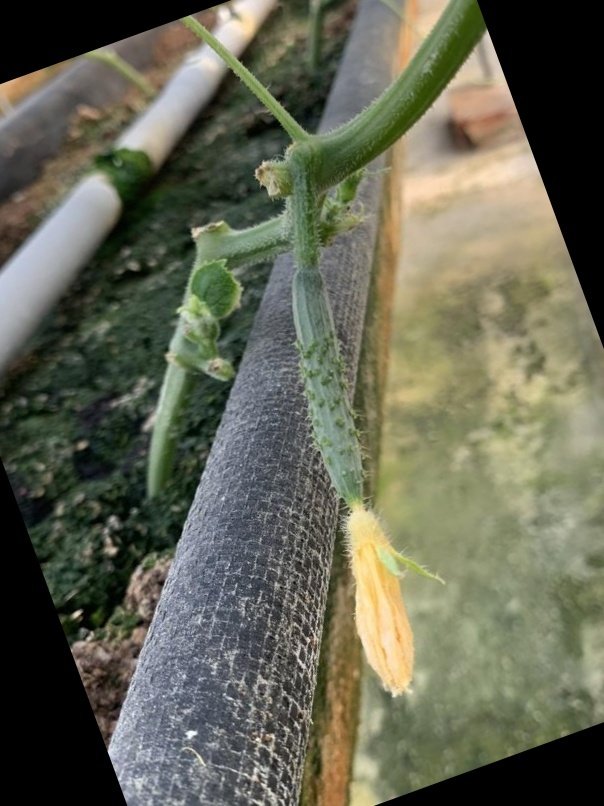bear: (267, 241, 451, 746)
